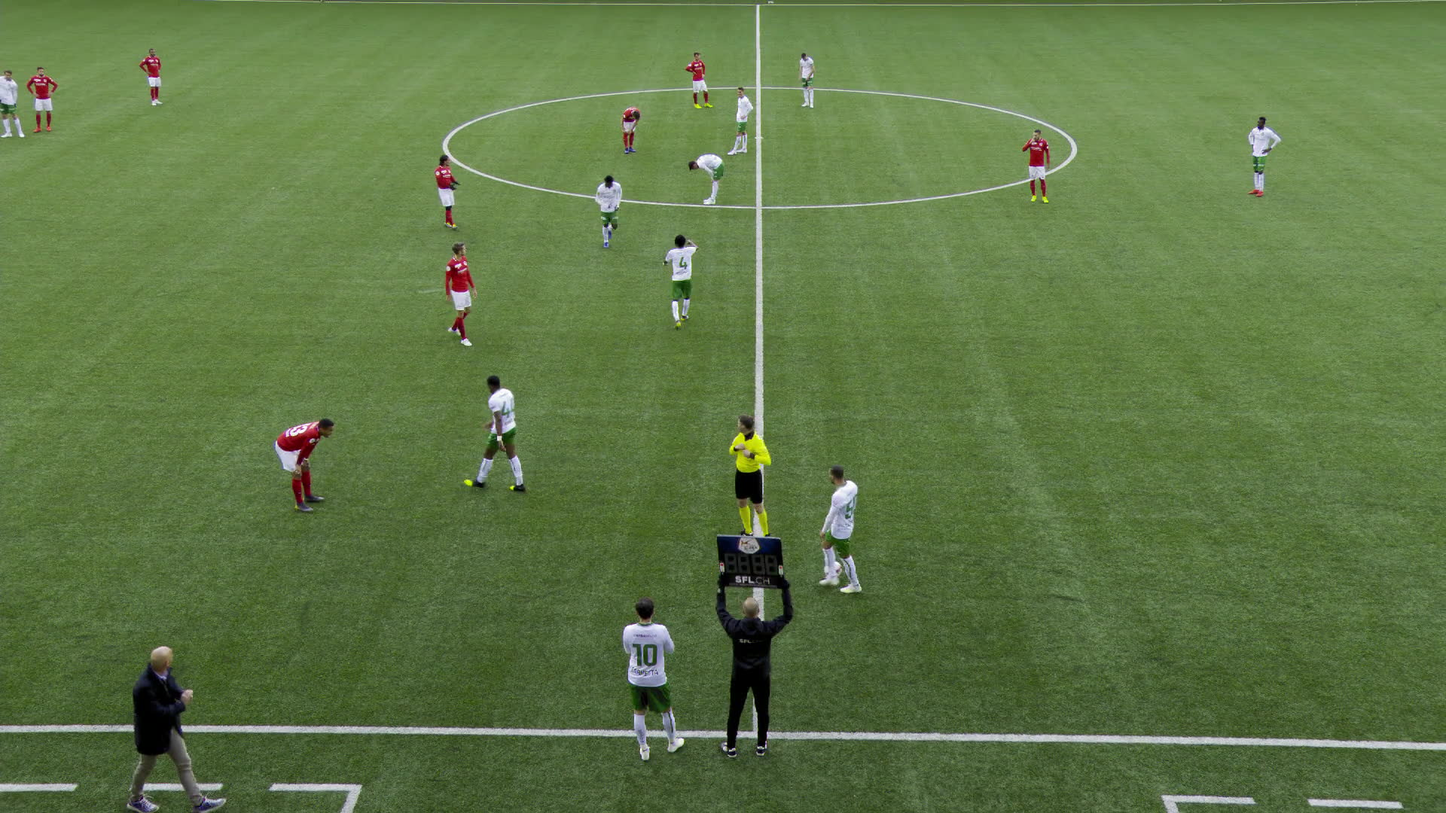ball: (831, 562, 844, 578)
player: (618, 594, 687, 763), (807, 461, 867, 595), (470, 372, 529, 496), (272, 416, 335, 514), (441, 240, 480, 347), (659, 231, 699, 332), (1245, 115, 1281, 198), (592, 170, 624, 248), (27, 65, 62, 134), (1021, 127, 1051, 204), (434, 153, 462, 231), (725, 85, 754, 155), (686, 154, 725, 206), (0, 67, 26, 139), (683, 50, 714, 110), (138, 47, 165, 108), (797, 50, 817, 109), (618, 105, 642, 154)
referee: (728, 412, 777, 537)
